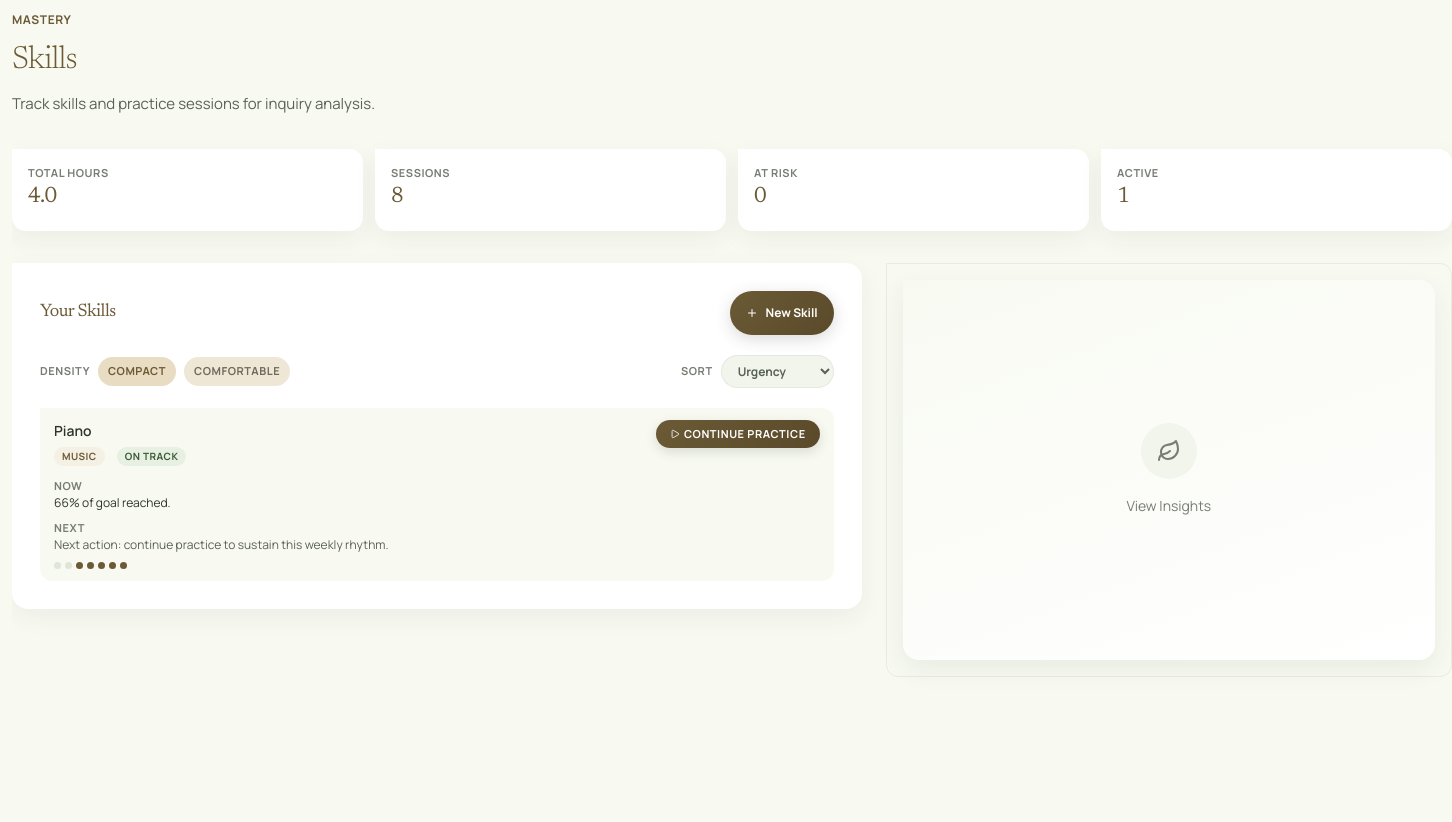
SkillsPage create flow rollout behavior › renders weekly cadence strip and on-track next-action narrative
Click the button with aria-label "open details for piano". click: (73, 430)
box: [40, 408, 834, 581]
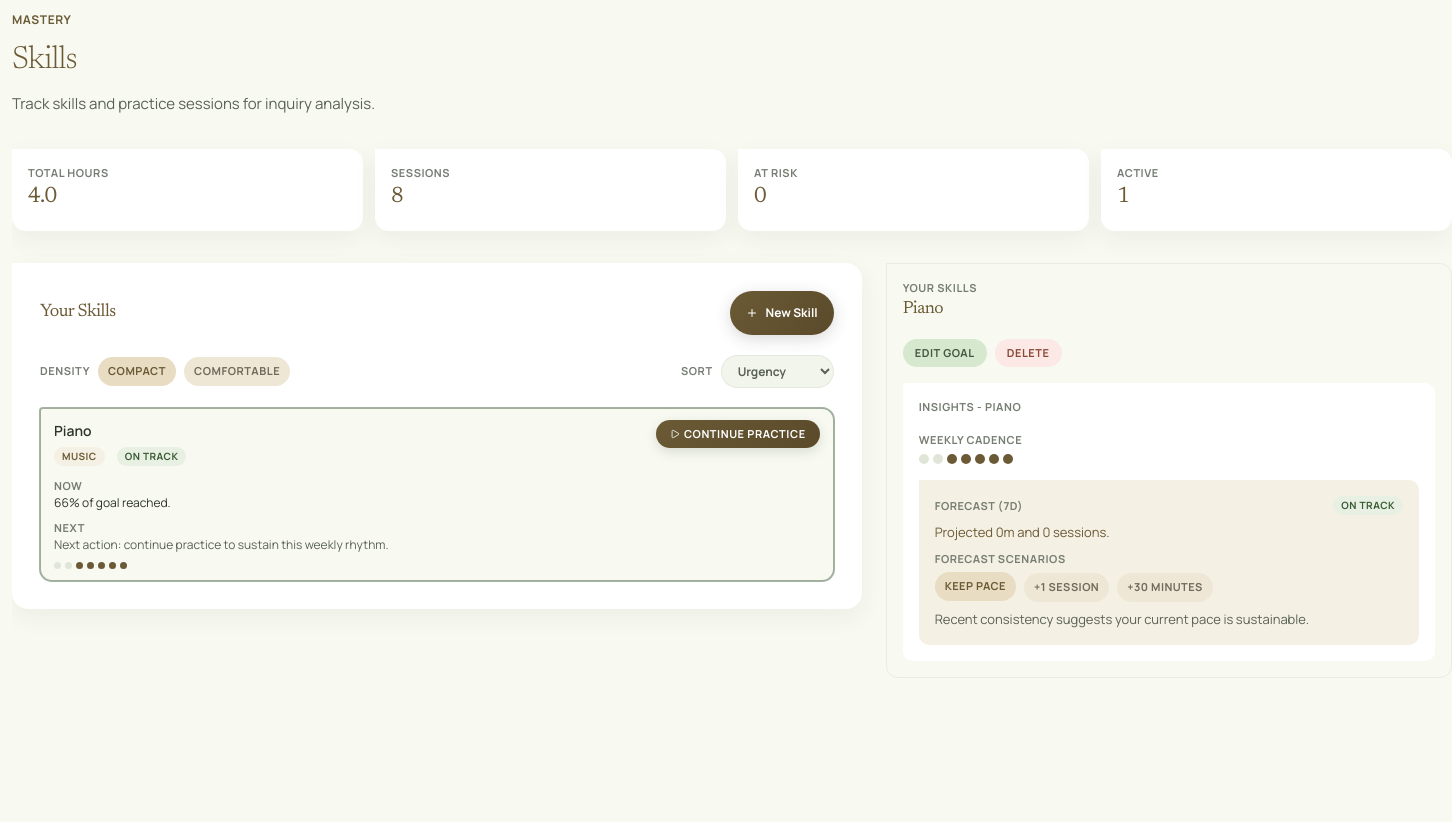
Expected: the element named "weekly cadence for piano" is shown, [54, 562, 127, 569]
Expected: the text "Weekly Cadence" is shown, [919, 432, 1022, 447]
